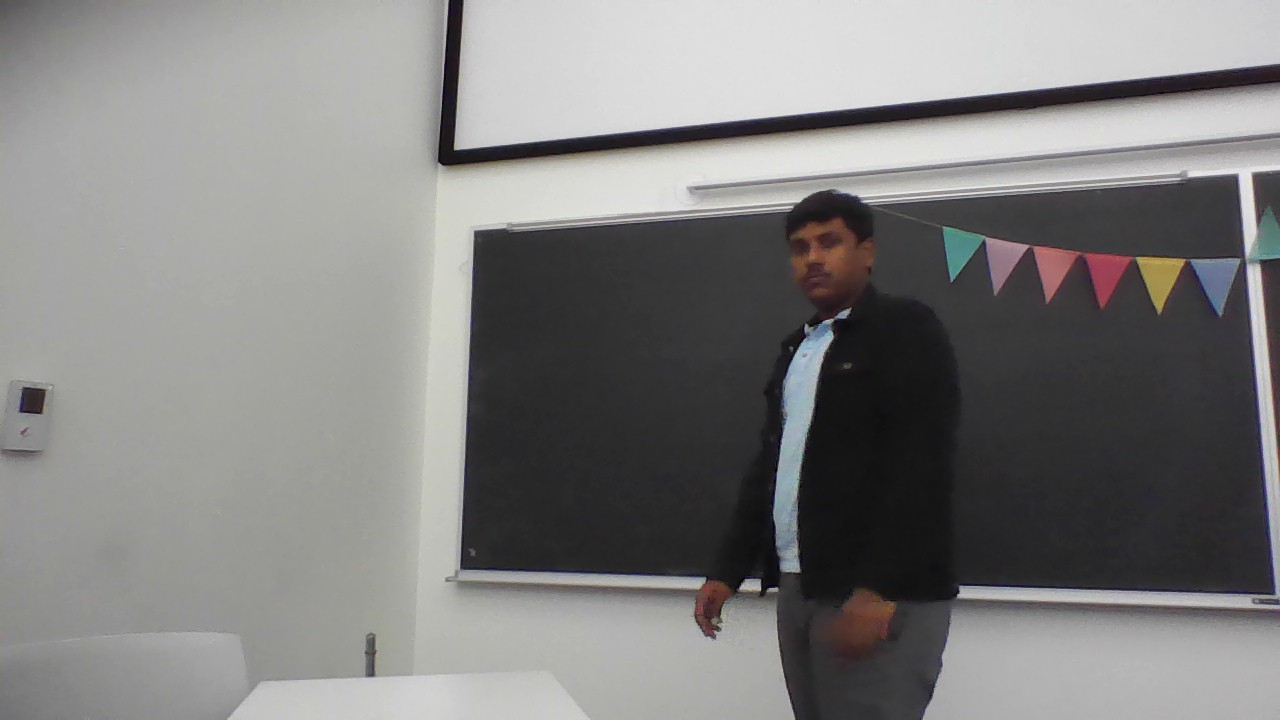height_frame: (681, 181, 999, 719)
hip_frame: (772, 571, 958, 600)
shoulder_frame: (774, 311, 927, 337)
waist_frame: (769, 491, 946, 513)
